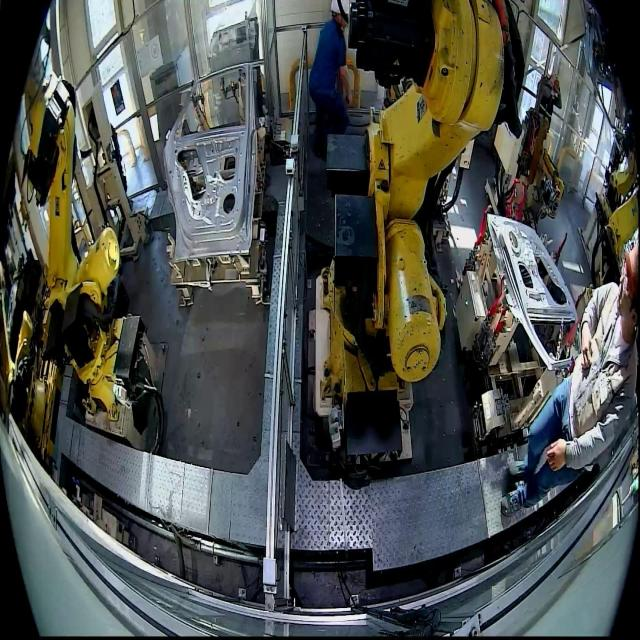Person: (506, 244, 639, 506), (308, 0, 353, 161), (535, 64, 563, 132)
